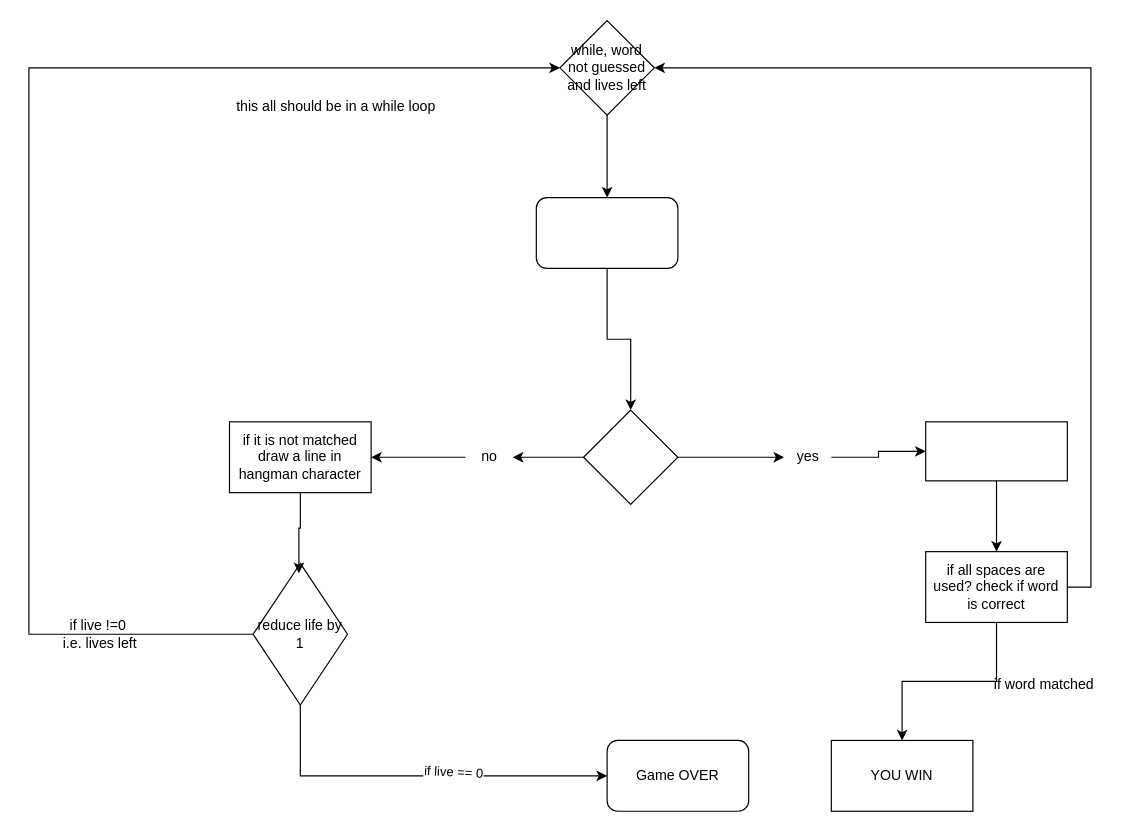
Some shapes in this 1129 by 832 pixel diagram are drawn without their labels. The box of each missing label's shape, as (x1, y1, x2, y2) in pixels:
check if it is matched with correct word: (582, 409, 678, 504)
if its matched, write that word in the guessed word: (925, 421, 1067, 481)
input a word: (535, 196, 678, 268)
